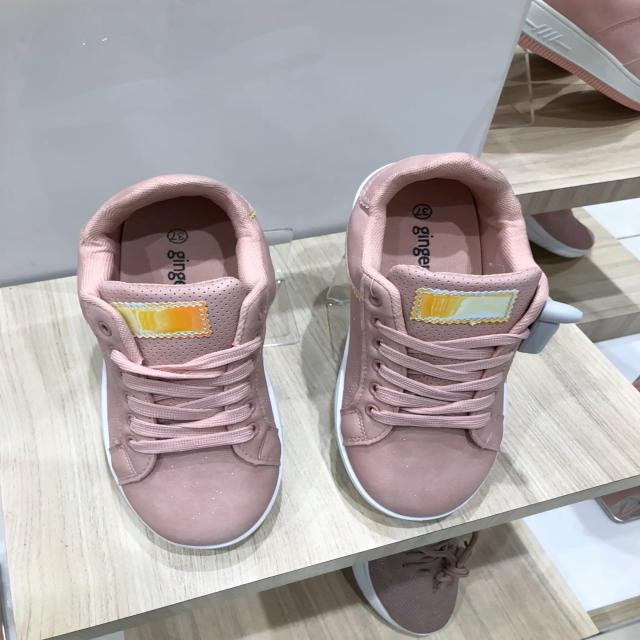shoe: (76, 175, 283, 552), (338, 154, 550, 519)
